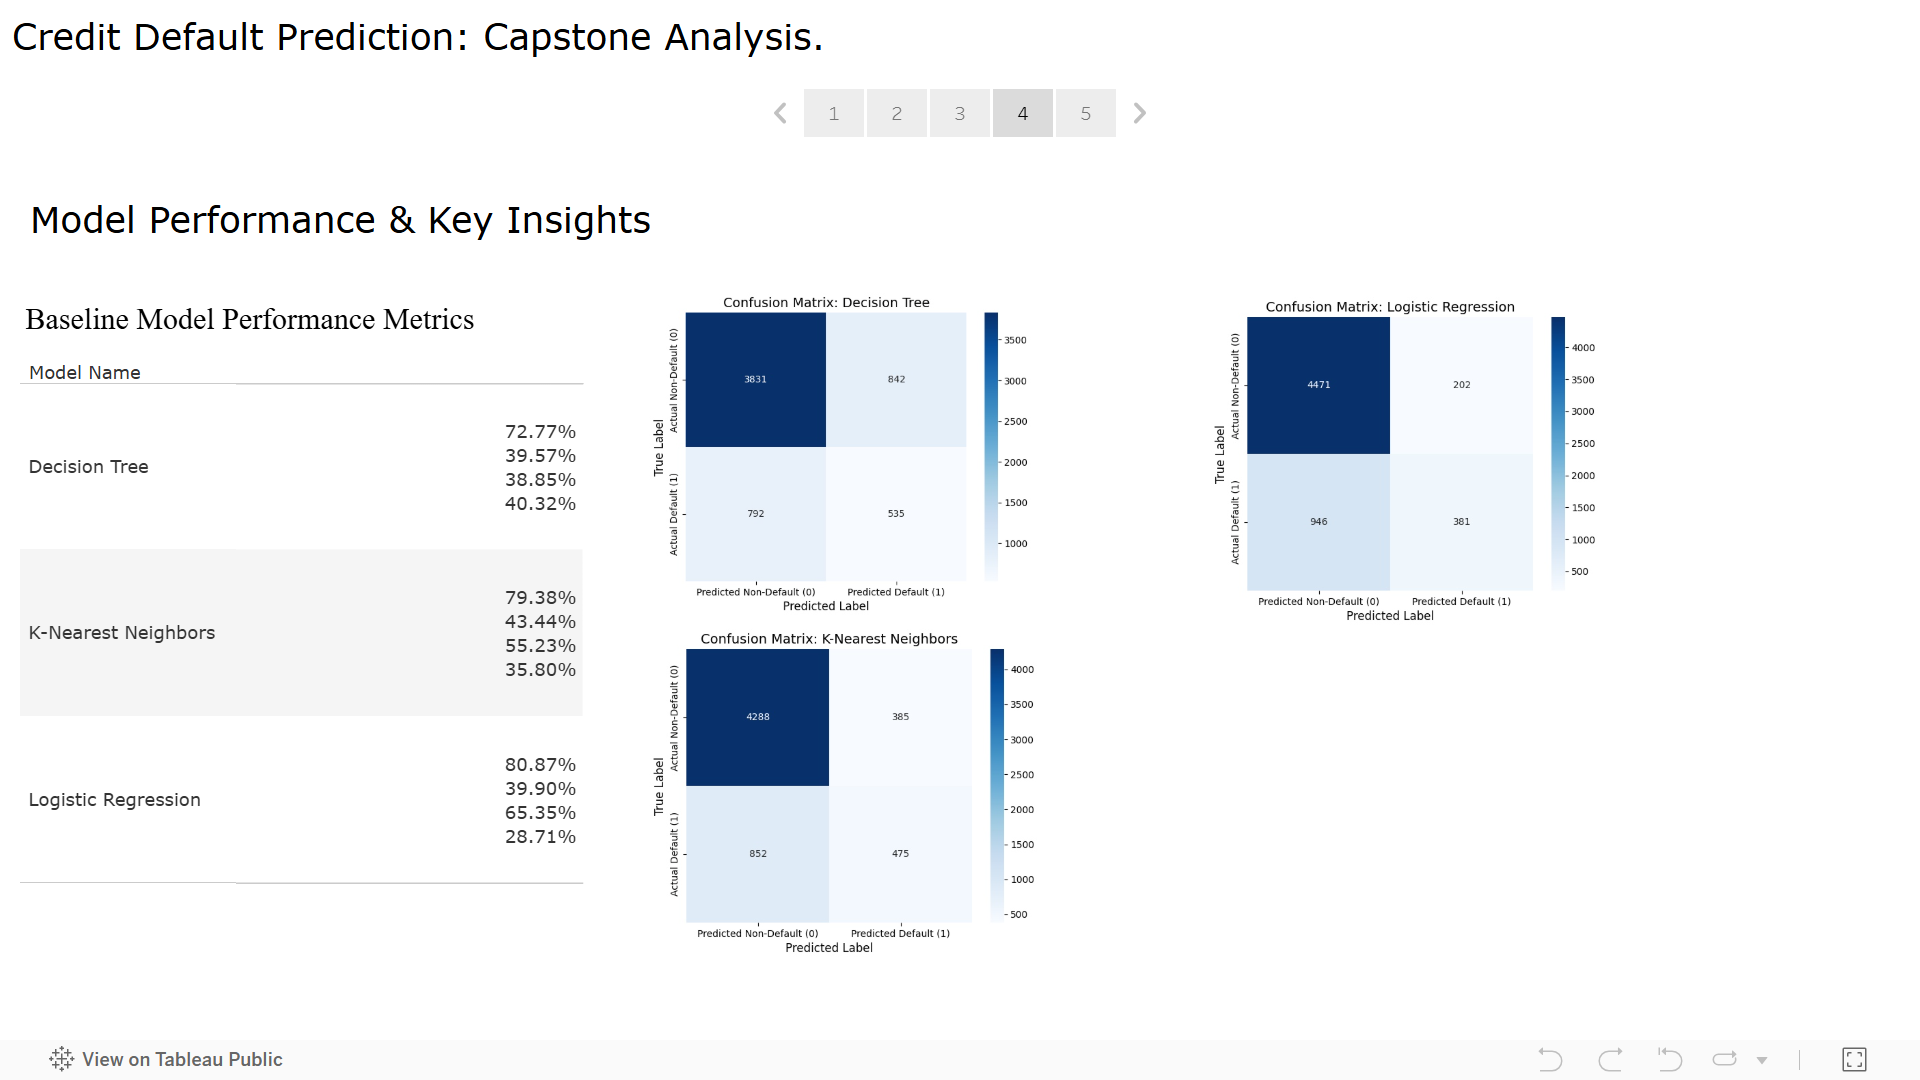

The page's visual inventory and layout, read from the dashboard file:
{"tool":"tableau","page":{"name":"Dashboard 4: Model Performance & Insights","canvas":[1000,1000],"units":"permille","ordinal":2},"visuals":[{"type":"title","box":[5,10.7,989.9,69.7]},{"type":"worksheet","title":"4.2 Temp for CM Parameter","mark":"Automatic","box":[5,80.4,989.9,908.9]},{"type":"worksheet","title":"4.1 Model Performance Table","mark":"Automatic","rows":["Model Name"],"box":[3.8,132.7,280.1,735.9]},{"type":"image","param":"Image/Logistic_Regression_baseline_confusion_matrix.png","box":[629,134.1,345.7,402.1]},{"type":"image","param":"Image/Decision_Tree_baseline_confusion_matrix.png","box":[283.9,139.4,341.3,399.5]},{"type":"image","param":"Image/K-Nearest_Neighbors_baseline_confusion_matrix.png","box":[283.9,532.2,346.4,404.8]}]}

Visuals, with their boxes on the dashboard's canvas, which has no fixed pixel size, in thousandths of its width and height (x1, y1, x2, y2). These are canvas units, not pixel positions in the 1920x1080 screenshot, which may show the page scaled, cropped or inside an application window:
title: bbox(5, 11, 995, 80)
"4.2 Temp for CM Parameter" worksheet: bbox(5, 80, 995, 989)
"4.1 Model Performance Table" worksheet: bbox(4, 133, 284, 869)
image: bbox(629, 134, 975, 536)
image: bbox(284, 139, 625, 539)
image: bbox(284, 532, 630, 937)
